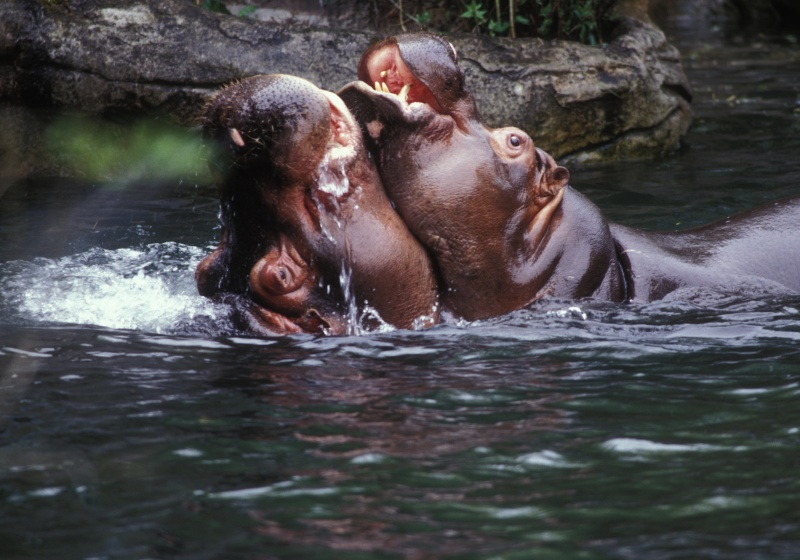hipopotamo: (343, 34, 721, 325), (151, 52, 385, 388)
